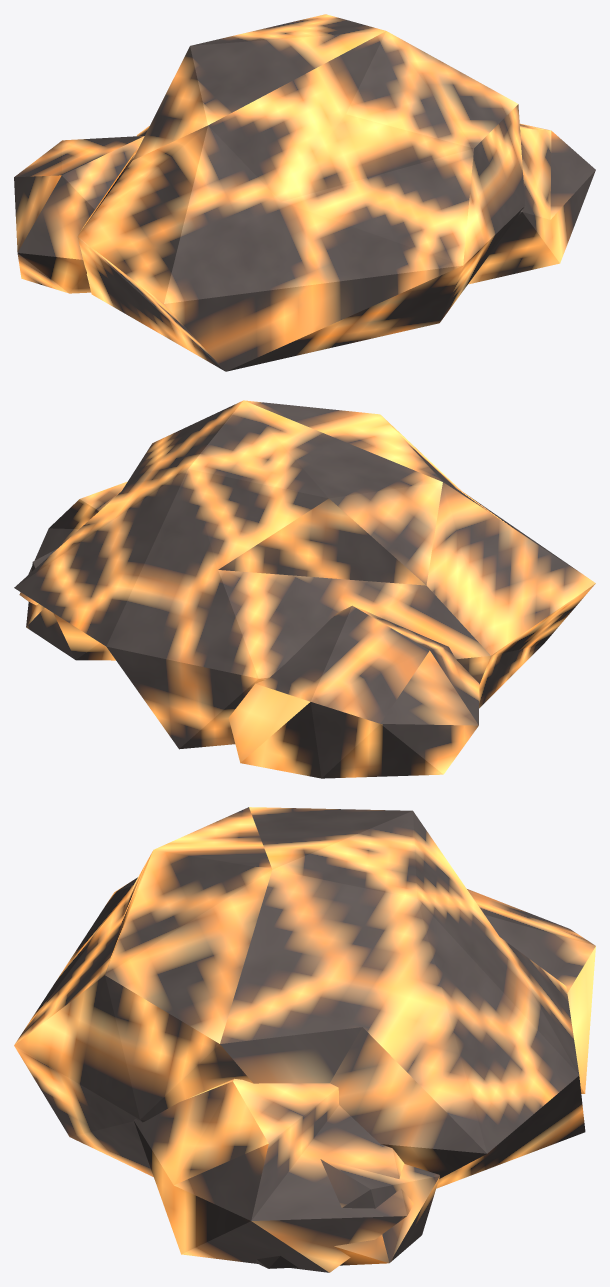
Rendered from slag_chunk_a_lod1.gltf.
3 views of the same model, one above another, from view 1: azimuth 30°, elevation 25°; view 2: azimuth 150°, elevation 25°; view 3: azimuth 270°, elevation 25° (orthographic). The views are drawn at different scales.
Parts seen in each view (by area): view 1: slag_chunk_a_LOD1; view 2: slag_chunk_a_LOD1; view 3: slag_chunk_a_LOD1.
Part boxes in pixels (x1,y1,x2,y2): slag_chunk_a_LOD1: (14, 14, 595, 371); slag_chunk_a_LOD1: (14, 400, 595, 778); slag_chunk_a_LOD1: (14, 807, 595, 1272).
Size of the model in its own units: 0.9452 by 0.4323 by 0.756.
1 material, 1 textured.
